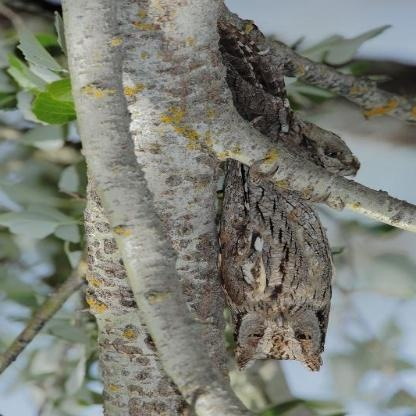Owl: (223, 73, 331, 369)
